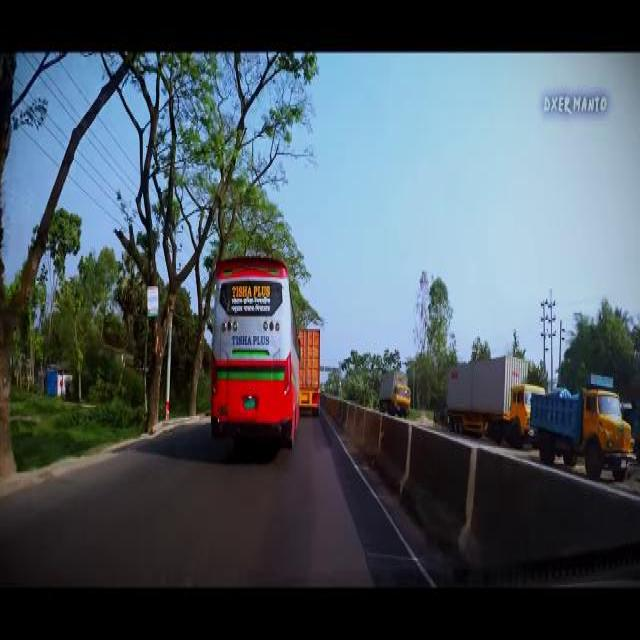bus: (208, 252, 302, 452)
truck: (527, 380, 637, 480), (444, 356, 532, 455), (297, 324, 323, 419), (376, 365, 412, 417)
